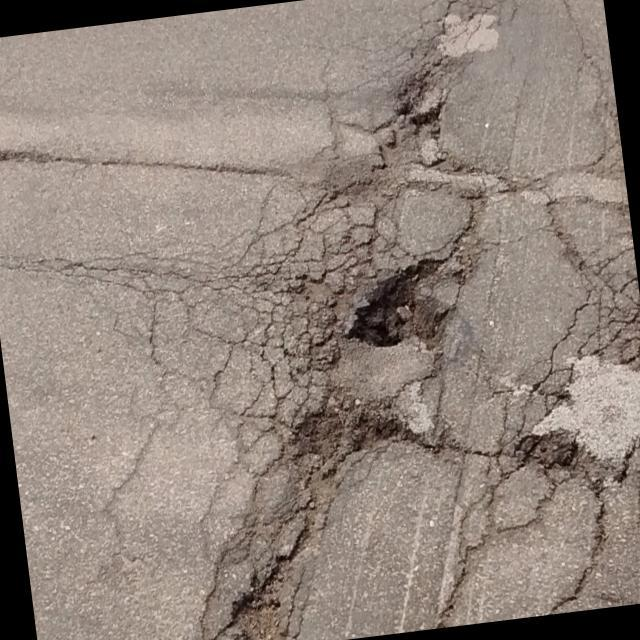Pothole: (337, 252, 457, 377), (198, 528, 329, 640), (282, 374, 412, 477), (508, 408, 610, 502), (394, 95, 451, 162)
